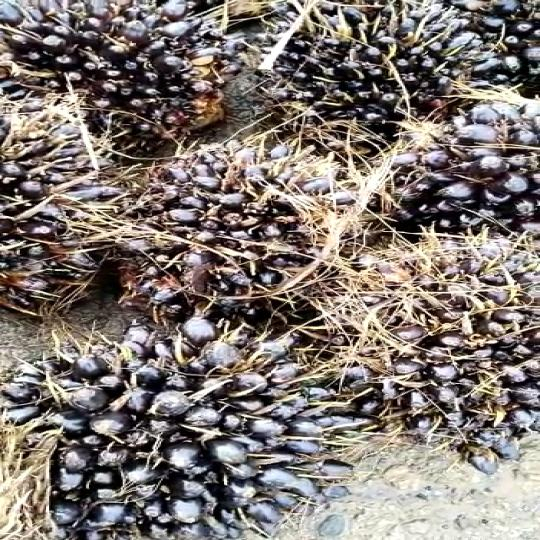mentah: (0, 304, 362, 536), (325, 233, 540, 473), (123, 122, 368, 326), (0, 0, 240, 158), (236, 0, 457, 161), (334, 93, 532, 259), (0, 86, 123, 327)
